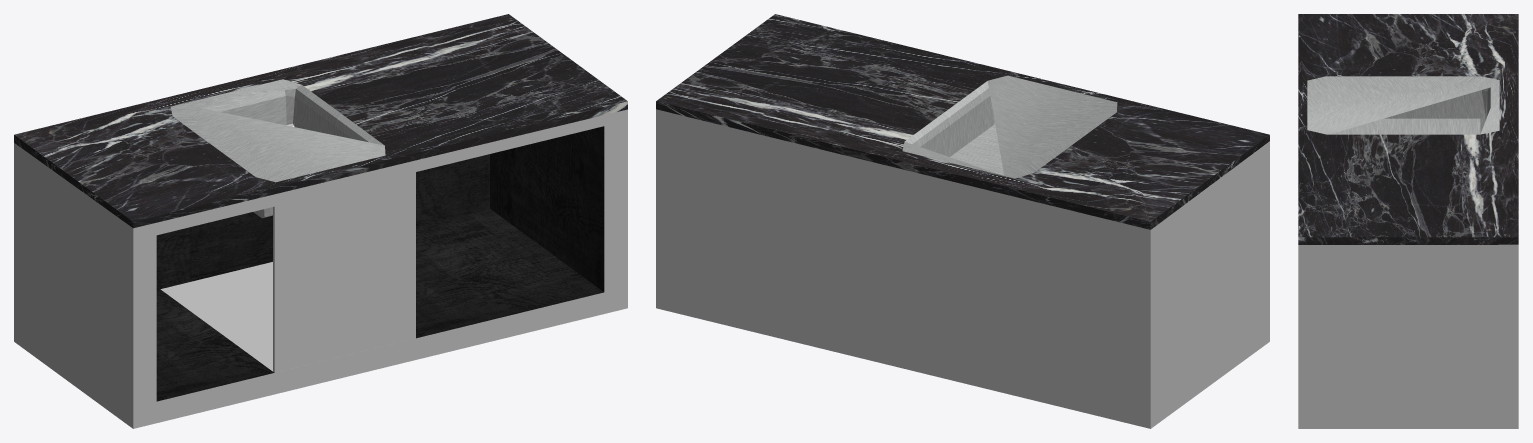
File: keuken1_Hull.fbx
The picture shows the model from 3 angles, left to right: view 1: azimuth 30°, elevation 25°; view 2: azimuth 150°, elevation 25°; view 3: azimuth 270°, elevation 25°; orthographic projection. The views are drawn at different scales.
Visible parts, largest first — view 1: Cube; view 2: Cube; view 3: Cube.
Boxes of the visible parts, left/top/right/bottom form: Cube: left=14, top=14, right=627, bottom=428; Cube: left=656, top=14, right=1269, bottom=428; Cube: left=1298, top=14, right=1518, bottom=428.
Bounding box in the file's own units: 250 × 100 × 104.
